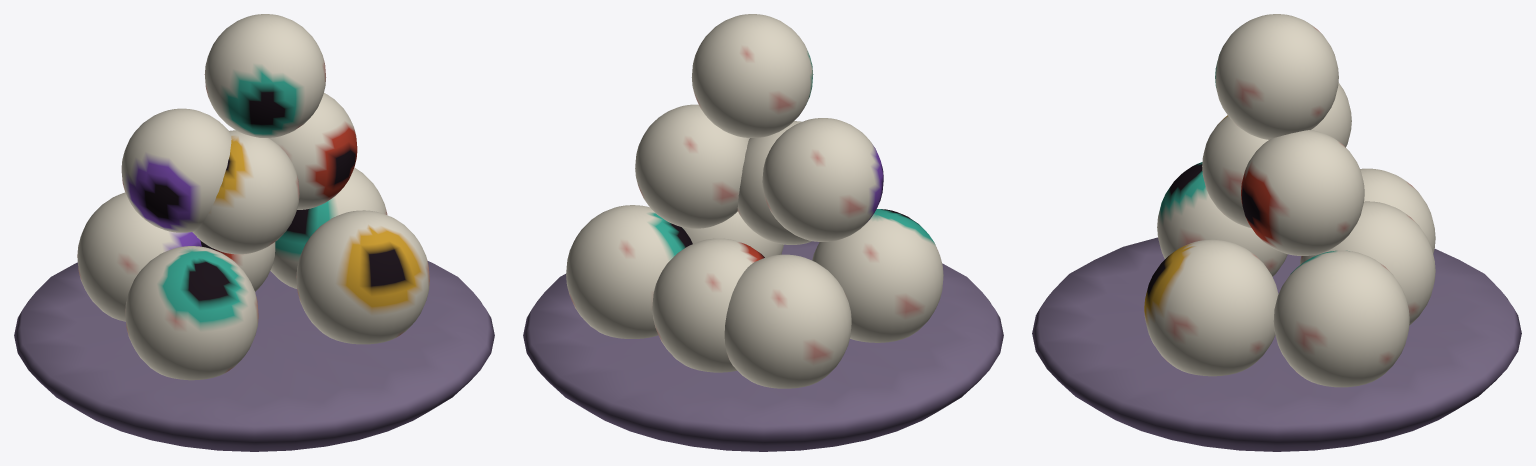
File: ing_eye.glb
The picture shows the model from 3 angles, left to right: view 1: azimuth 30°, elevation 25°; view 2: azimuth 150°, elevation 25°; view 3: azimuth 270°, elevation 25°; orthographic projection.
Parts seen in each view (by area): view 1: ing_eye; view 2: ing_eye; view 3: ing_eye.
Part boxes in pixels (x1,y1,x2,y2): ing_eye: [14, 14, 494, 451]; ing_eye: [523, 14, 1003, 451]; ing_eye: [1032, 14, 1521, 451].
Bounding box in the file's own units: 0.3789 × 0.3188 × 0.3789.
